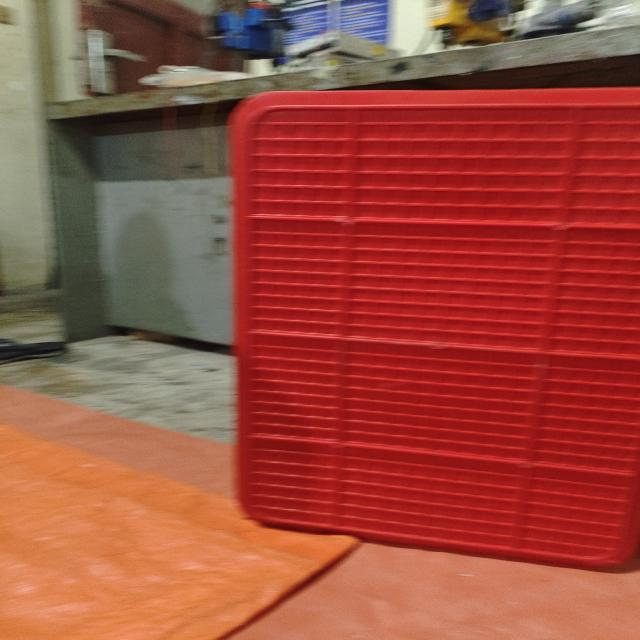red plastic box: (226, 87, 640, 569)
